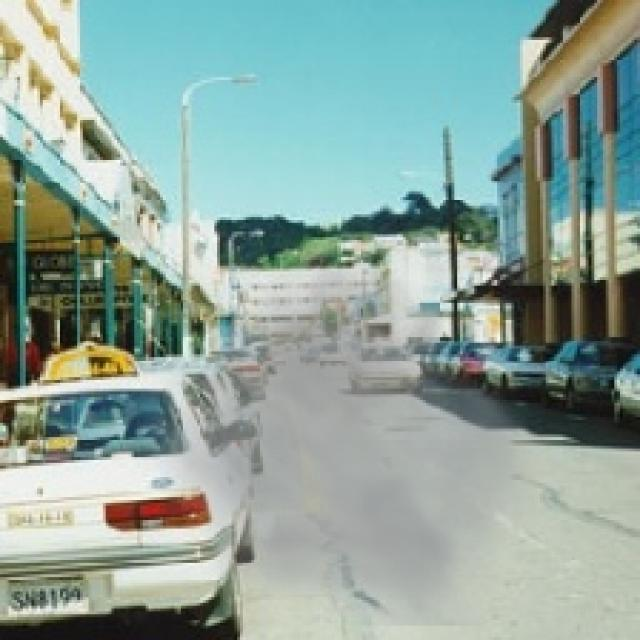smoke: (135, 220, 554, 626)
